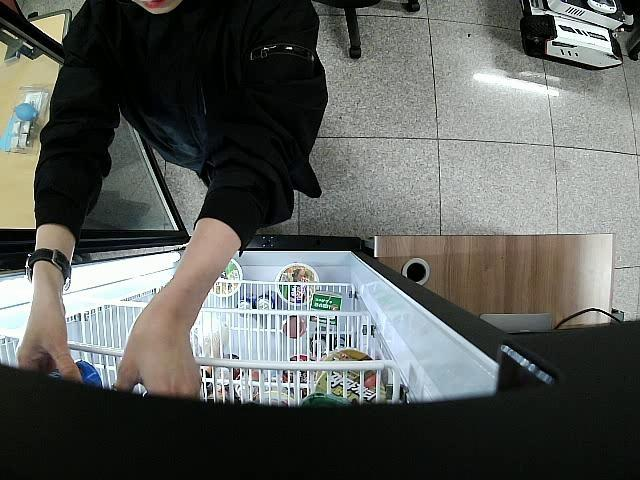15_letsbe: (48, 360, 102, 386)
